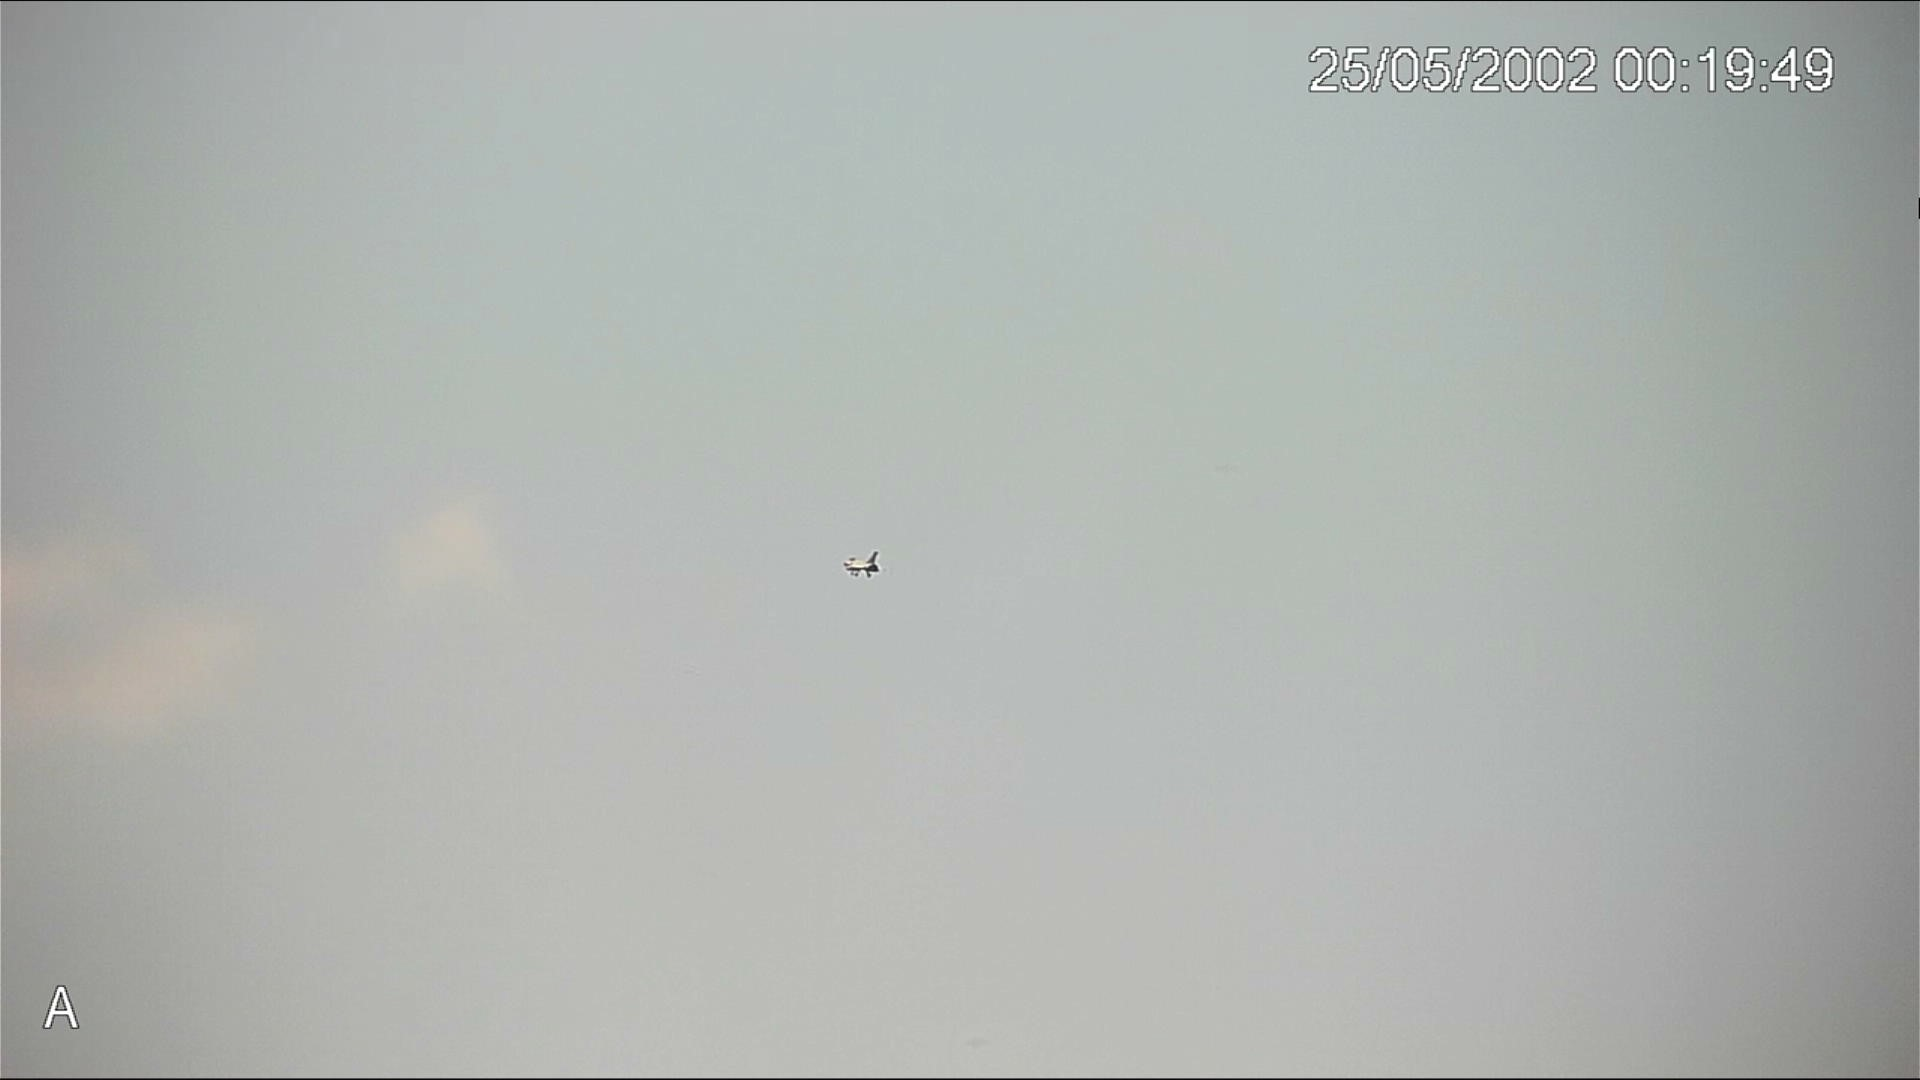SU_30: (843, 551, 884, 578)
